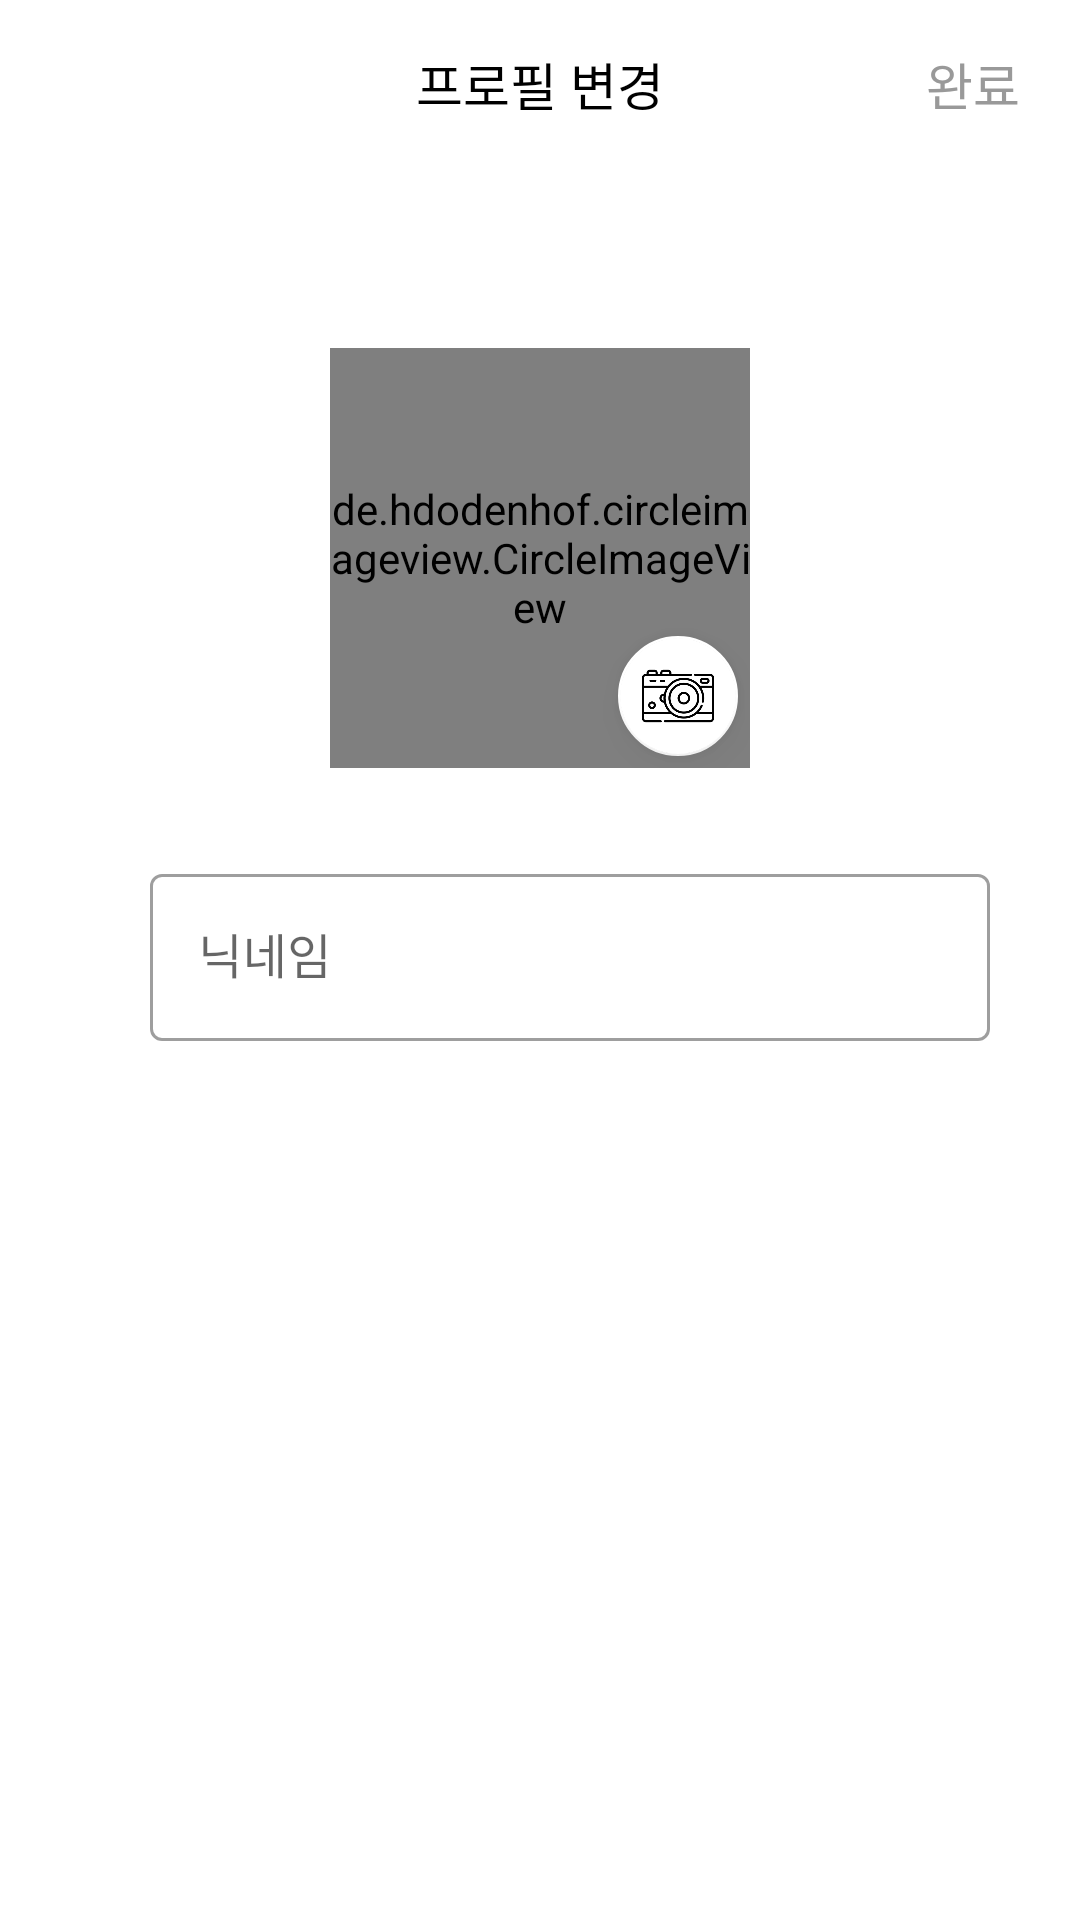

Icons on this 1080x1920 Android screen, each with the point to tap as (x=x, y=y):
camera: (x=678, y=696)
